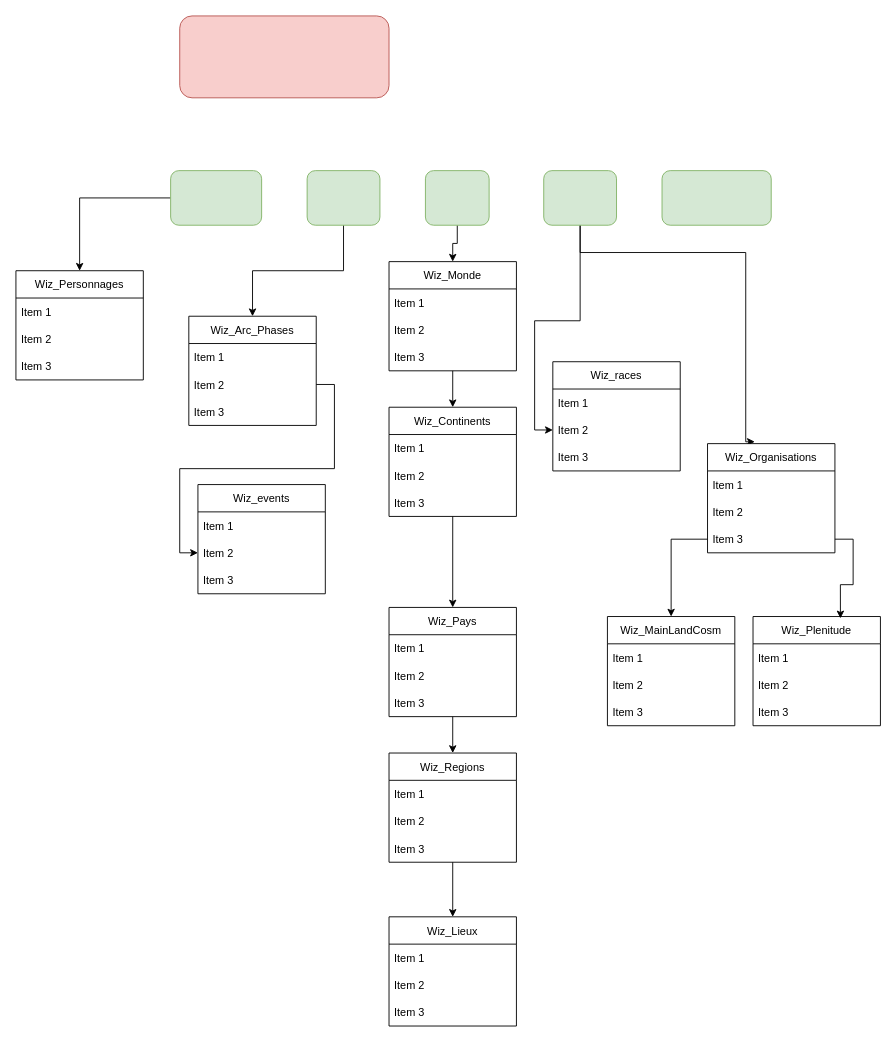
Some shapes in this 896 by 1042 pixel diagram are drawn without their labels. Each missing label, with the centre of its shape:
"Arcs" belongs at (343,197).
"encyclopédie" belongs at (716,197).
"entitées" belongs at (580,197).
"Geography" belongs at (457,197).
"Imp_aeon_wizecosm" belongs at (284,56).
"Personnages" belongs at (216,197).
